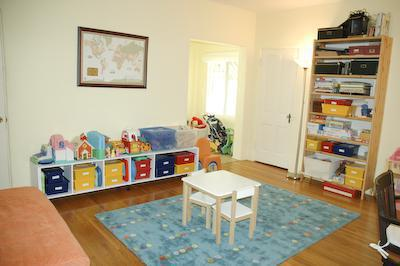Puerta: (260, 47, 295, 165)
